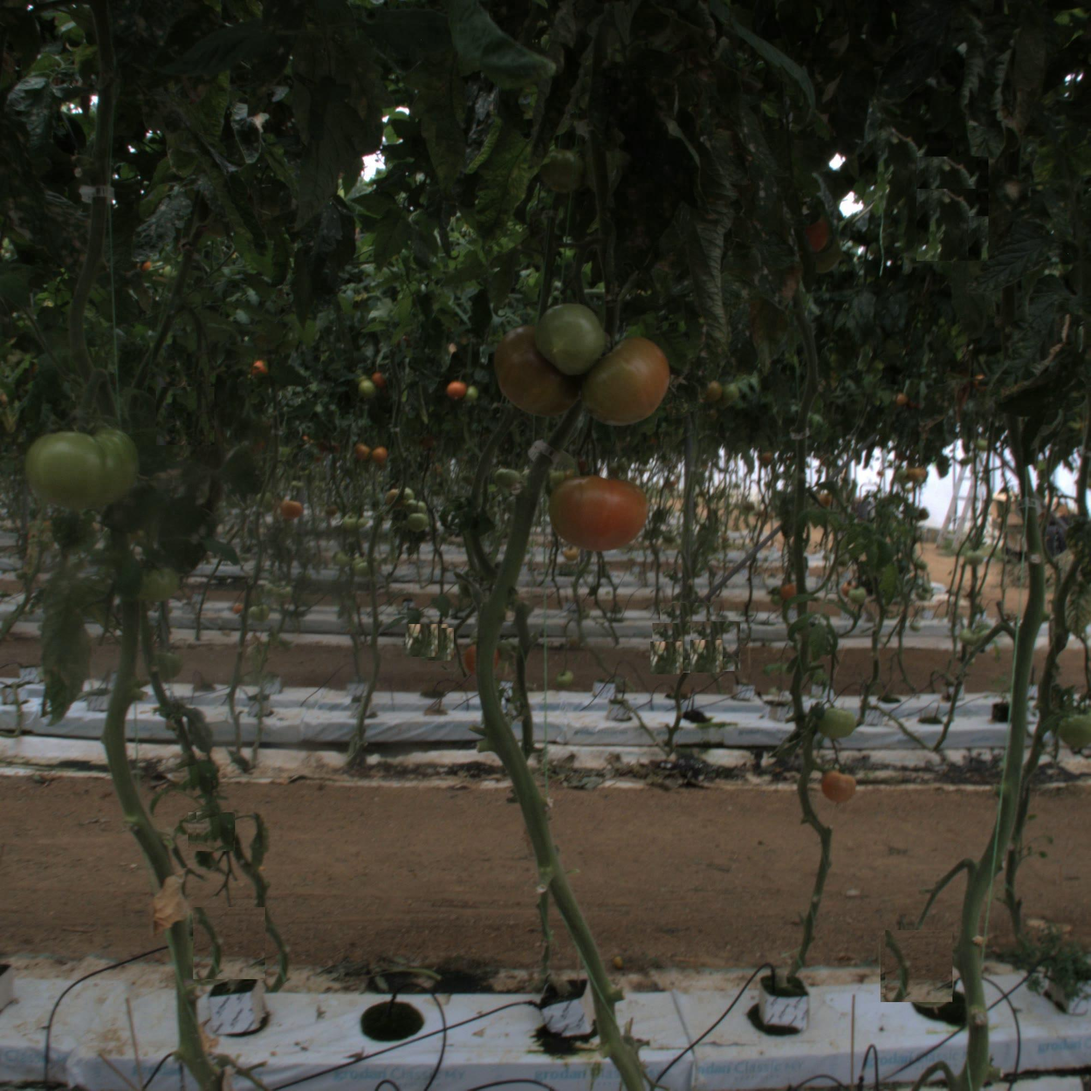fully-ripe: (553, 460, 644, 552), (822, 769, 858, 805)
semi-ripe: (578, 333, 670, 424), (495, 322, 586, 413)
unripe: (26, 406, 135, 515), (536, 306, 602, 371), (817, 704, 855, 742)
